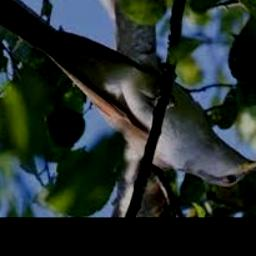Cuckoo: (0, 0, 256, 189)
